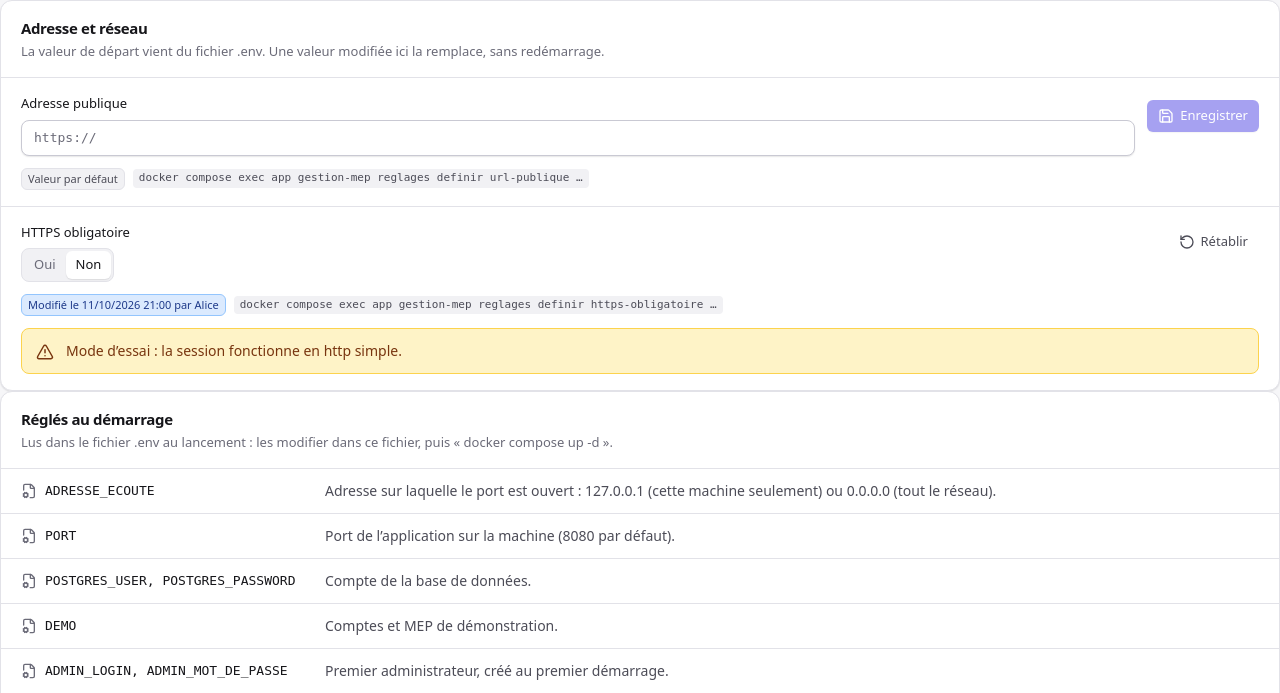
Test: Réglages du serveur › signale le mode d’essai et permet de rétablir la valeur
Check: the text "Mode d’essai : la session fonctionne en http simple." is shown, box [66, 341, 402, 360]
Click the button "Rétablir".
click(1213, 242)  # box [1168, 226, 1259, 258]
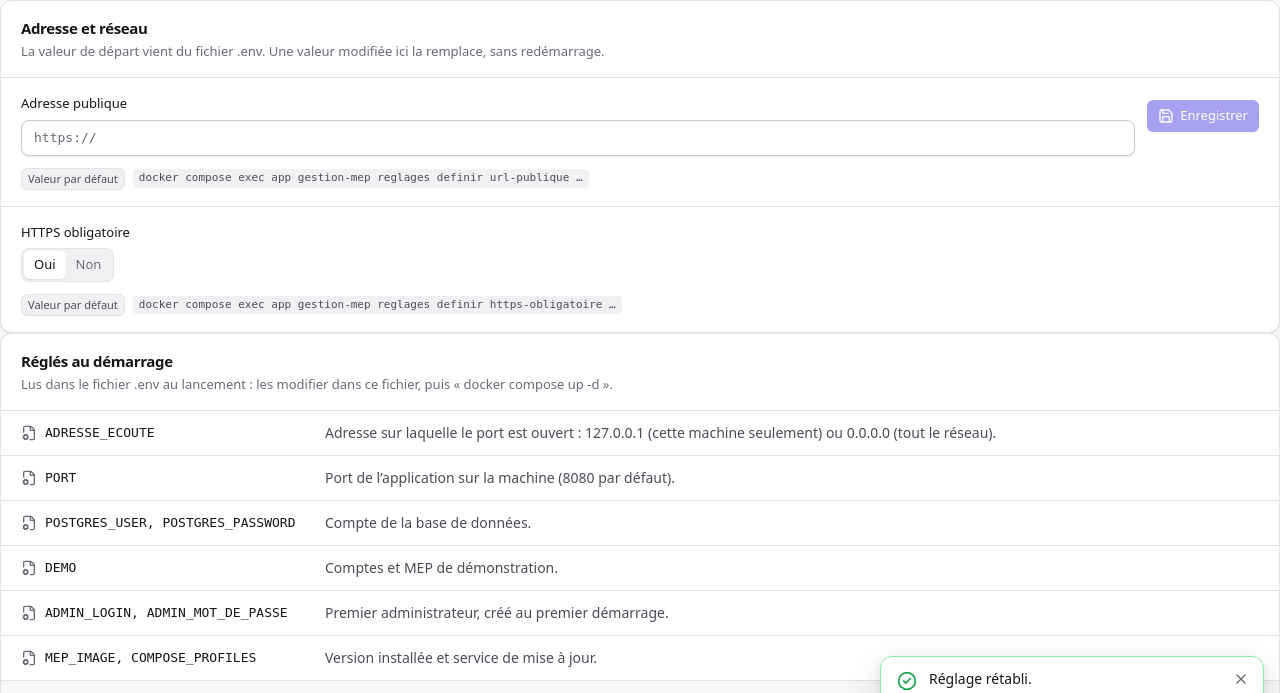
Check: the text "Mode d’essai" is gone
